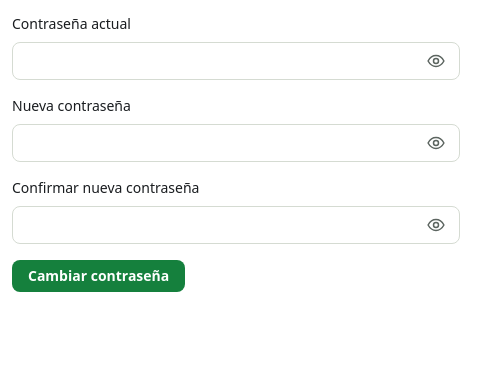
Test: ProfilePasswordForm › shows a generic error when the update fails
The width and height of the screenshot is (477, 391).
Type "actual123" into the password field labelled "Contraseña actual" at (236, 61), box [12,42,460,80]
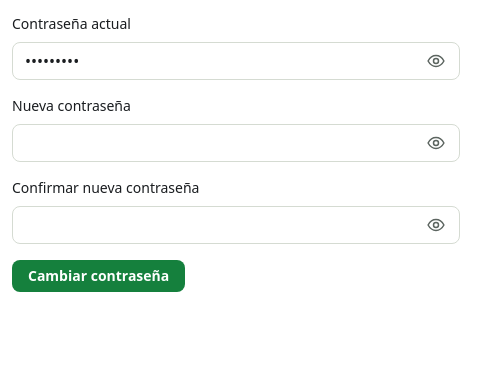
Type "nuevaClave1" into the password field labelled "Nueva contraseña" at (236, 143), box [12,124,460,162]
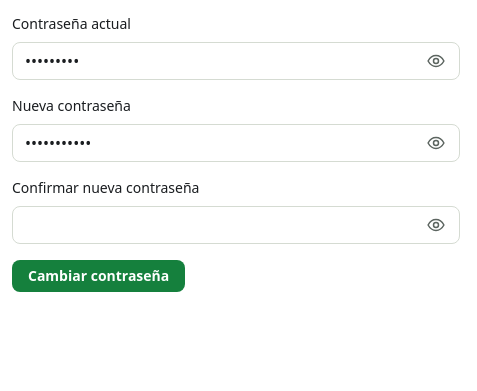
Type "nuevaClave1" into the password field labelled "Confirmar nueva contraseña" at (236, 225), box [12,206,460,244]
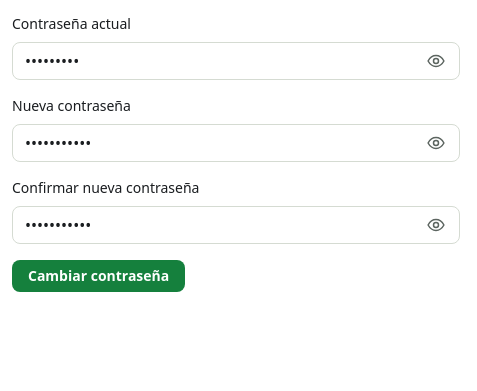
Submit the form
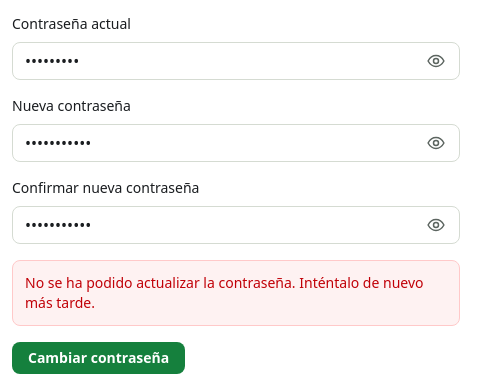
Check: the message "No se ha podido actualizar la contraseña. Inténtalo de nuevo más tarde." is shown, box [12,260,460,326]
